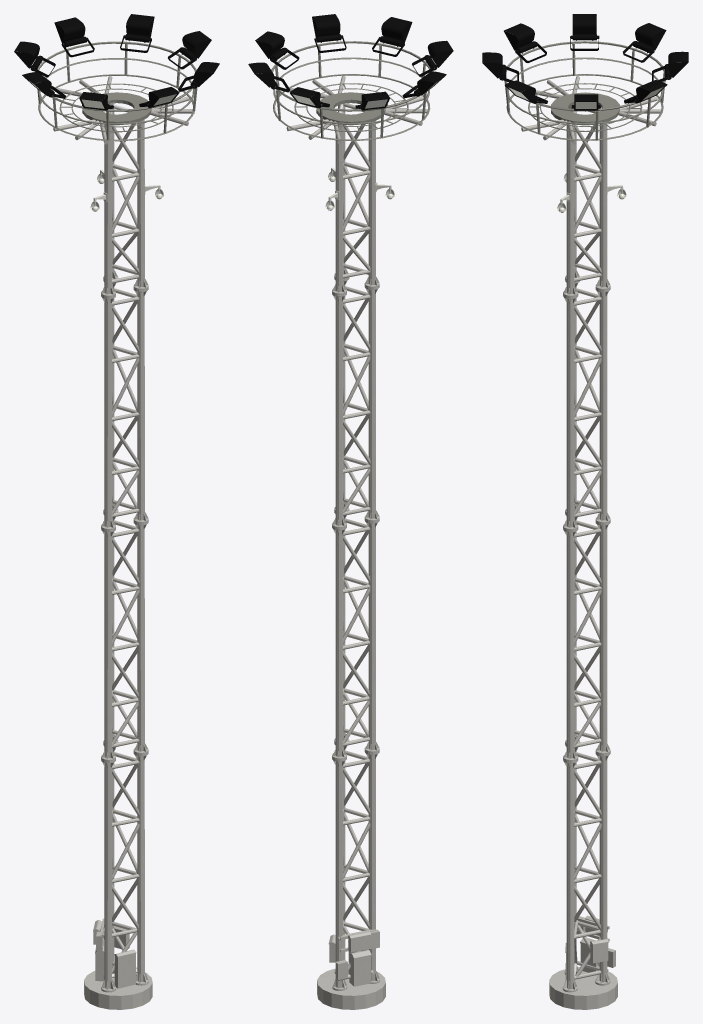
File: LuDeng.gltf
3 views of the same model, side by side, from view 1: azimuth 30°, elevation 25°; view 2: azimuth 150°, elevation 25°; view 3: azimuth 270°, elevation 25° (orthographic).
Visible parts, largest first — view 1: Object868; view 2: Object868; view 3: Object868.
Part boxes in pixels (x1=…): Object868: x1=14, y1=14, x2=219, y2=1009; Object868: x1=248, y1=14, x2=453, y2=1009; Object868: x1=482, y1=14, x2=688, y2=1009.
Size of the model in its own units: 11.09 by 55.62 by 11.09.
Materials: 2 (2 with a texture image).
